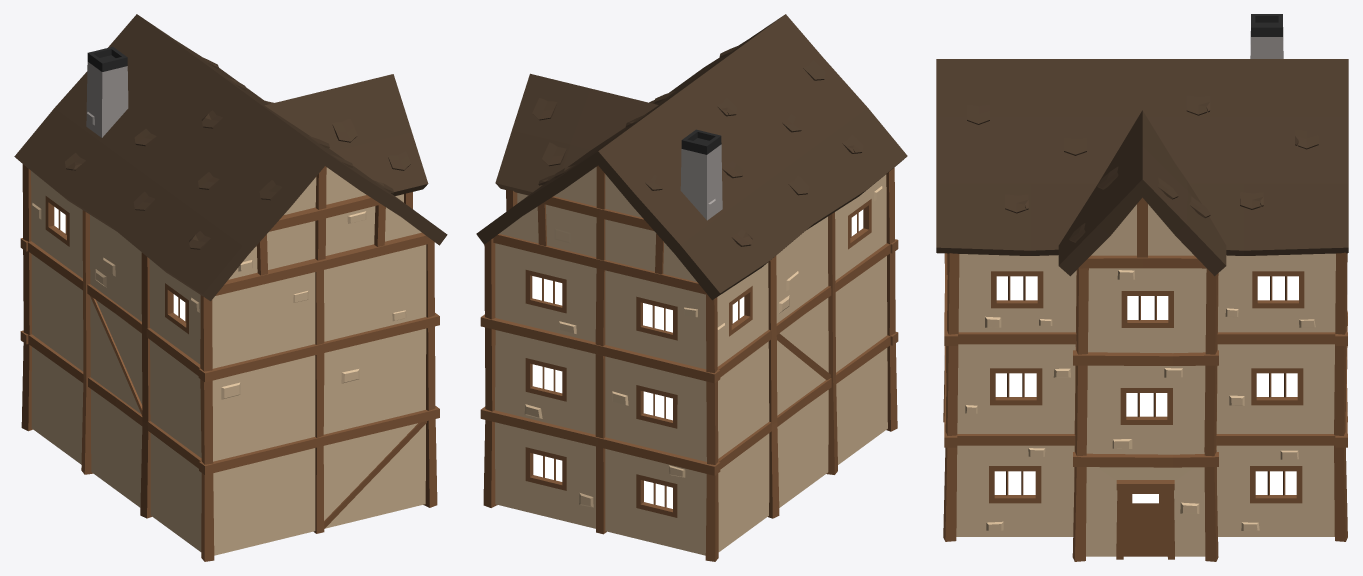
The model's file is medieval-house-medieval-large.glb.
3 renders of one model, left to right at view 1: azimuth 30°, elevation 25°; view 2: azimuth 150°, elevation 25°; view 3: azimuth 270°, elevation 25°, orthographic. The views are drawn at different scales.
Visible parts, largest first — view 1: house-medieval-large; view 2: house-medieval-large; view 3: house-medieval-large.
Part boxes in pixels (left/top/right/bottom): house-medieval-large: left=14, top=14, right=447, bottom=561; house-medieval-large: left=476, top=14, right=907, bottom=561; house-medieval-large: left=936, top=14, right=1348, bottom=561.
Bounding box in the file's own units: 8.17 × 10.54 × 9.28.
